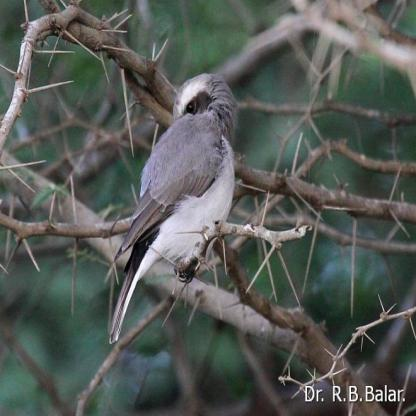Burung: (109, 73, 234, 345)
